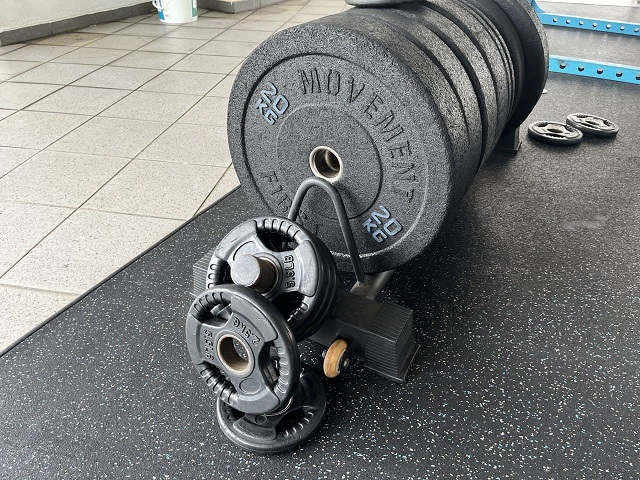weights: (226, 13, 470, 277), (205, 214, 337, 347), (185, 283, 298, 412), (213, 369, 329, 455), (527, 120, 583, 149), (564, 112, 620, 139)
